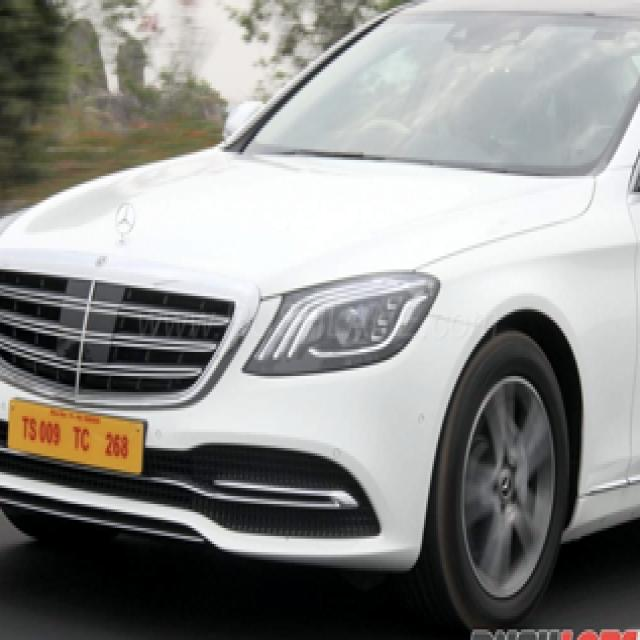license_plate: (12, 400, 139, 480)
